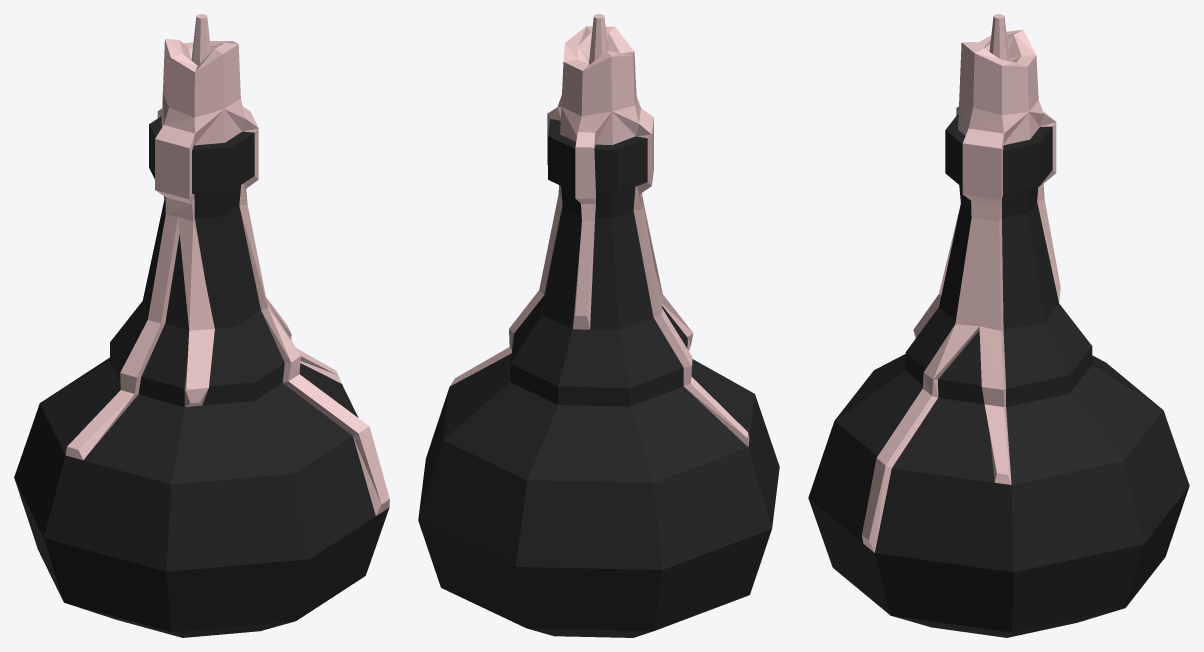
The model's file is SM_Item_Bottle_Candle_02.glb.
3 renders of one model, left to right at view 1: azimuth 30°, elevation 25°; view 2: azimuth 150°, elevation 25°; view 3: azimuth 270°, elevation 25°, orthographic.
Parts seen in each view (by area): view 1: SM_Item_Bottle_Candle_02_00; view 2: SM_Item_Bottle_Candle_02_00; view 3: SM_Item_Bottle_Candle_02_00.
Part boxes in pixels (<box>): SM_Item_Bottle_Candle_02_00: <box>14,14,389,637</box>; SM_Item_Bottle_Candle_02_00: <box>418,14,779,637</box>; SM_Item_Bottle_Candle_02_00: <box>808,14,1189,637</box>.
Size of the model in its own units: 0.199 by 0.3327 by 0.199.
1 material, 1 textured.
